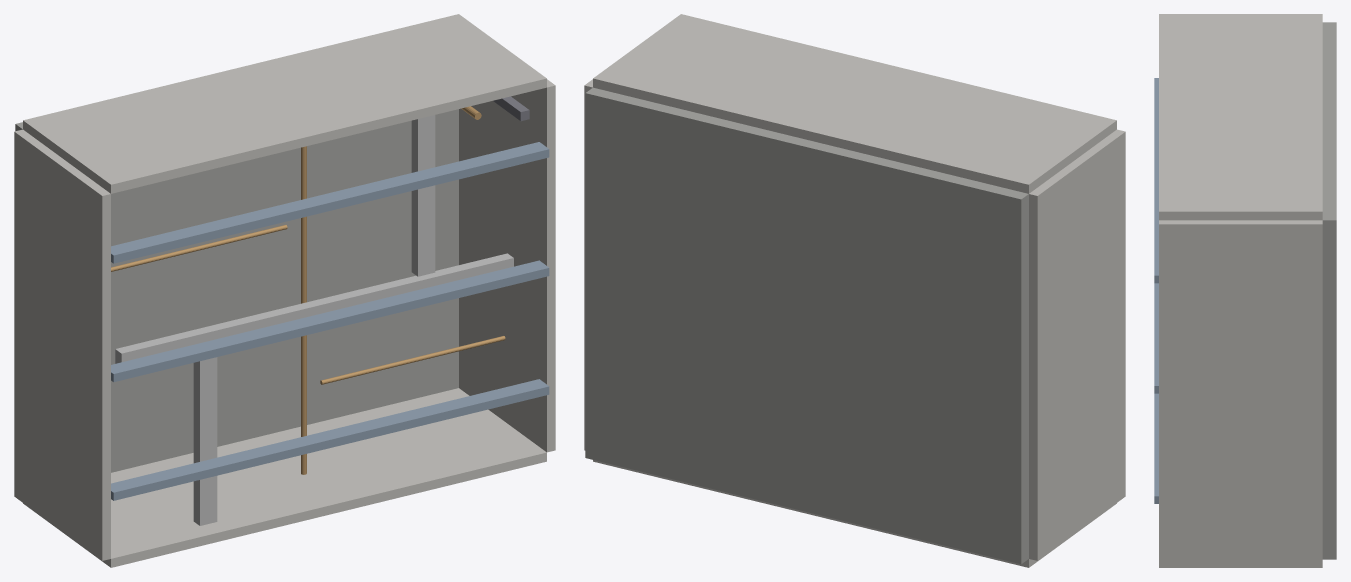
File: reference.glb
3 views of the same model, side by side, from view 1: azimuth 30°, elevation 25°; view 2: azimuth 150°, elevation 25°; view 3: azimuth 270°, elevation 25° (orthographic). The views are drawn at different scales.
Visible parts, largest first — view 1: floor_slab, wall_north, wall_west, wall_south, wall_east, beam_left_1, beam_right_1, beam_central_1, duct_hvac_main, duct_branch_south, duct_branch_north, pipe_main_supply (+2 smaller); view 2: floor_slab, wall_north, wall_west, wall_south, wall_east; view 3: wall_east, wall_north, floor_slab, beam_right_1, wall_south, beam_central_1, beam_left_1.
Boxes of the visible parts, x1,y1,x2,y2 form: floor_slab: (15, 109, 458, 472); wall_north: (23, 14, 546, 193); wall_west: (14, 129, 110, 560); wall_south: (23, 388, 546, 567); wall_east: (459, 79, 555, 452); beam_left_1: (111, 379, 549, 500); beam_right_1: (111, 142, 549, 263); beam_central_1: (111, 260, 549, 382); duct_hvac_main: (115, 253, 513, 363); duct_branch_south: (193, 357, 217, 525); duct_branch_north: (411, 115, 435, 276); pipe_main_supply: (301, 146, 306, 474); floor_slab: (585, 87, 1028, 564); wall_north: (593, 14, 1116, 193); wall_west: (1029, 129, 1125, 560); wall_south: (593, 460, 1116, 567); wall_east: (584, 79, 592, 450); wall_east: (1159, 220, 1322, 563); wall_north: (1159, 14, 1322, 220); floor_slab: (1322, 22, 1336, 559); beam_right_1: (1154, 78, 1158, 283); wall_south: (1159, 563, 1322, 567); beam_central_1: (1154, 283, 1158, 393); beam_left_1: (1154, 393, 1158, 503).
Bounding box in the file's own units: 10.4 × 8.4 × 3.9.
